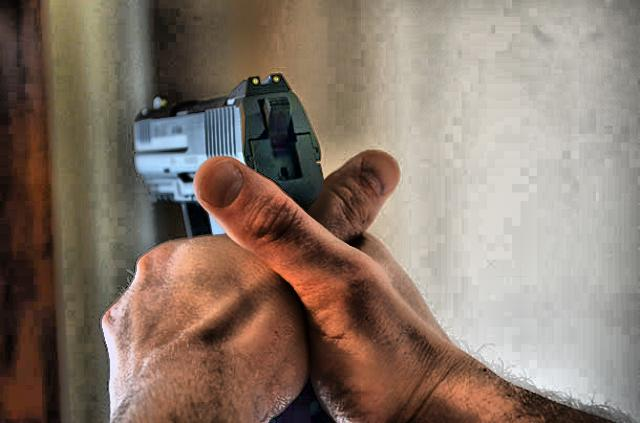pistol: (130, 67, 334, 421)
